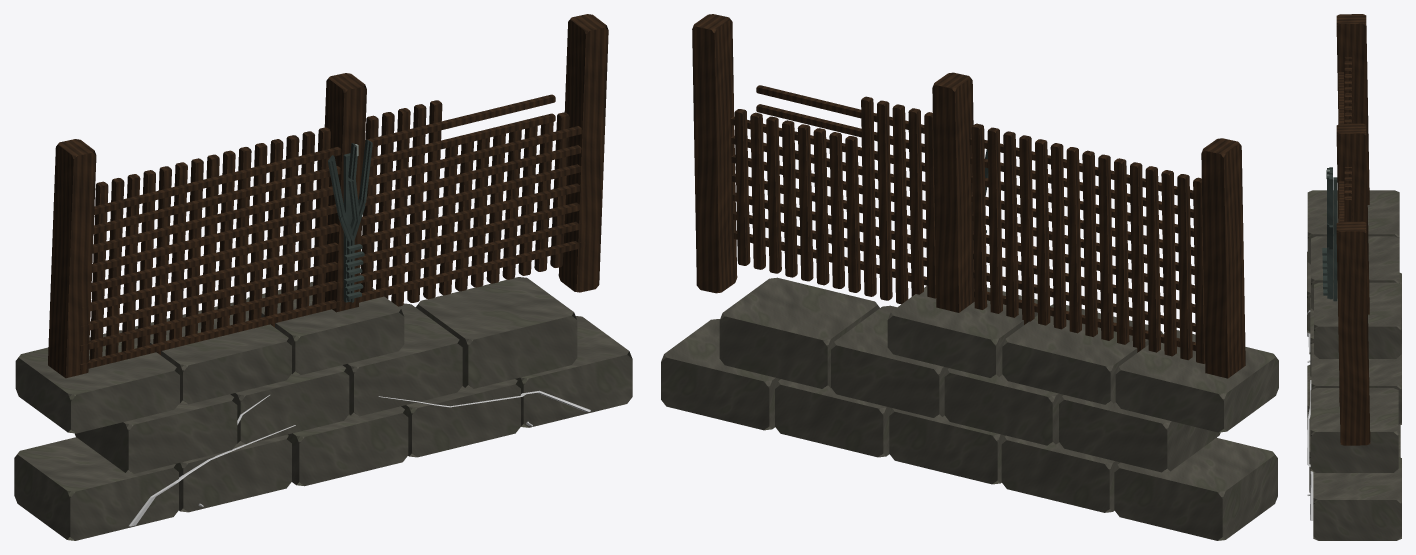
The model's file is cataclysm_fen_wall-lod0.gltf.
The picture shows the model from 3 angles, left to right: view 1: azimuth 30°, elevation 25°; view 2: azimuth 150°, elevation 25°; view 3: azimuth 270°, elevation 25°; orthographic projection. The views are drawn at different scales.
Visible parts, largest first — view 1: cataclysm_fen_wall LOD0 cataclysm_fen_wall, cataclysm_fen_wall LOD0 cataclysm_fen_wall roots attached; view 2: cataclysm_fen_wall LOD0 cataclysm_fen_wall; view 3: cataclysm_fen_wall LOD0 cataclysm_fen_wall, cataclysm_fen_wall LOD0 cataclysm_fen_wall roots attached.
Boxes of the visible parts, x1=… form: cataclysm_fen_wall LOD0 cataclysm_fen_wall: x1=14, y1=14, x2=632, y2=540; cataclysm_fen_wall LOD0 cataclysm_fen_wall roots attached: x1=129, y1=390, x2=590, y2=526; cataclysm_fen_wall LOD0 cataclysm_fen_wall: x1=661, y1=14, x2=1278, y2=540; cataclysm_fen_wall LOD0 cataclysm_fen_wall: x1=1307, y1=14, x2=1401, y2=540; cataclysm_fen_wall LOD0 cataclysm_fen_wall roots attached: x1=1307, y1=310, x2=1313, y2=520.
Size of the model in its own units: 2.73 by 1.71 by 0.4792.
